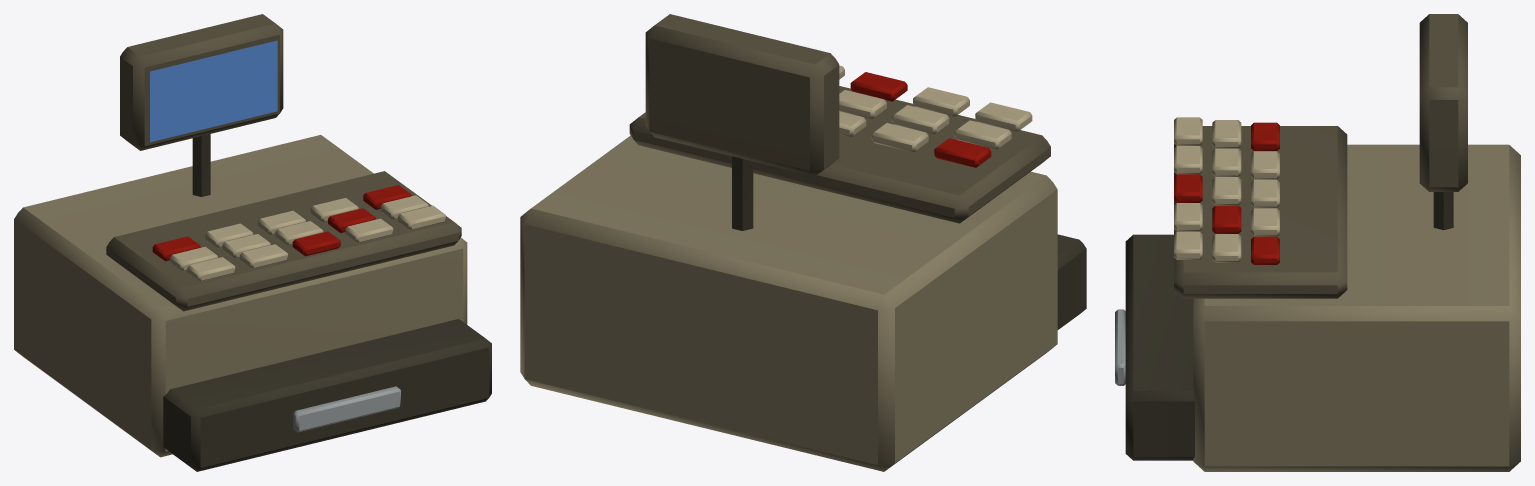
The model's file is rest-cash-register.glb.
The picture shows the model from 3 angles, left to right: view 1: azimuth 30°, elevation 25°; view 2: azimuth 150°, elevation 25°; view 3: azimuth 270°, elevation 25°; orthographic projection. The views are drawn at different scales.
Visible parts, largest first — view 1: body__plastic, drawer__plastic, keys__plastic, screen__screen; view 2: body__plastic, keys__plastic, drawer__plastic; view 3: body__plastic, drawer__plastic, keys__plastic.
Part boxes in pixels (bbox=[...]): body__plastic: bbox=[14, 14, 467, 457]; drawer__plastic: bbox=[163, 319, 491, 471]; keys__plastic: bbox=[152, 185, 445, 281]; screen__screen: bbox=[150, 40, 277, 142]; body__plastic: bbox=[520, 14, 1057, 471]; keys__plastic: bbox=[839, 65, 1032, 167]; drawer__plastic: bbox=[1057, 234, 1086, 329]; body__plastic: bbox=[1174, 14, 1520, 471]; drawer__plastic: bbox=[1115, 234, 1194, 460]; keys__plastic: bbox=[1174, 117, 1279, 264].
Bounding box in the file's own units: 0.42 × 0.39 × 0.421.
